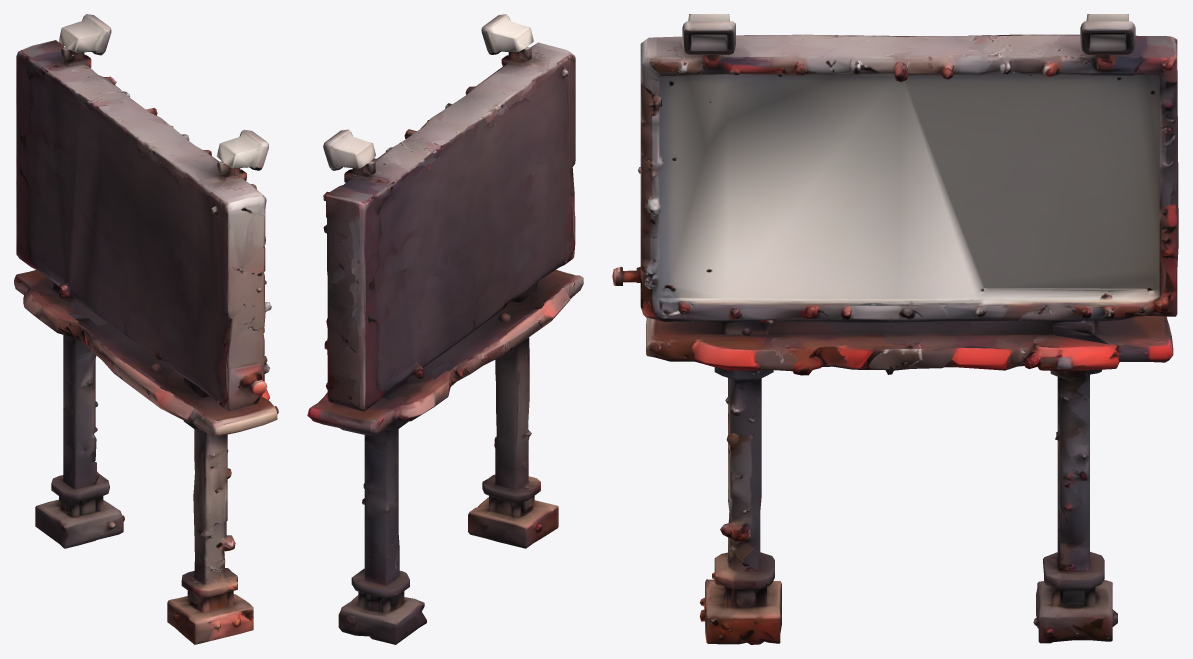
The model's file is billboard.glb.
3 renders of one model, left to right at view 1: azimuth 30°, elevation 25°; view 2: azimuth 150°, elevation 25°; view 3: azimuth 270°, elevation 25°, orthographic. The views are drawn at different scales.
Visible parts, largest first — view 1: tripo_node_7cbc8e0a-0fd4-4261-83cc-571c6f931de4; view 2: tripo_node_7cbc8e0a-0fd4-4261-83cc-571c6f931de4; view 3: tripo_node_7cbc8e0a-0fd4-4261-83cc-571c6f931de4.
Boxes of the visible parts, bbox=[...] form: tripo_node_7cbc8e0a-0fd4-4261-83cc-571c6f931de4: bbox=[14, 14, 278, 644]; tripo_node_7cbc8e0a-0fd4-4261-83cc-571c6f931de4: bbox=[307, 14, 583, 644]; tripo_node_7cbc8e0a-0fd4-4261-83cc-571c6f931de4: bbox=[612, 14, 1178, 644].
Bounding box in the file's own units: 0.7466 × 3.5 × 2.88.
1 material, 1 textured.
